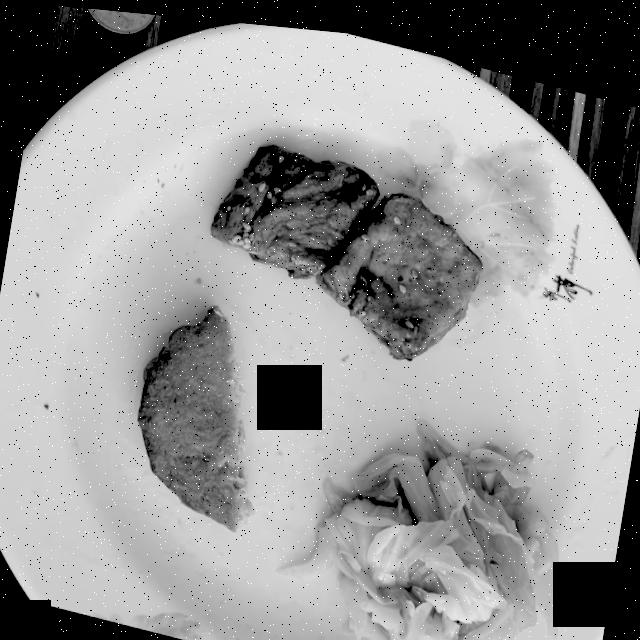Spam: (137, 302, 245, 525)
cabbage: (280, 412, 559, 640)
coin: (87, 7, 155, 32)
creamy tofu: (210, 139, 483, 351)
